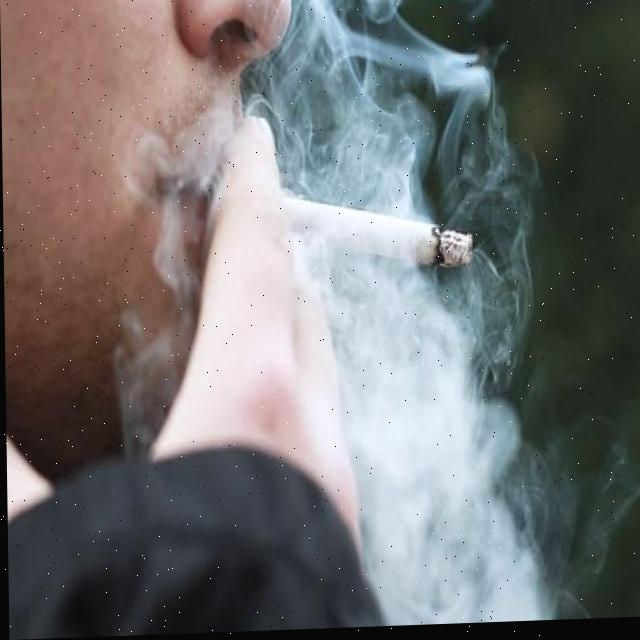cigarette: (281, 195, 472, 275)
